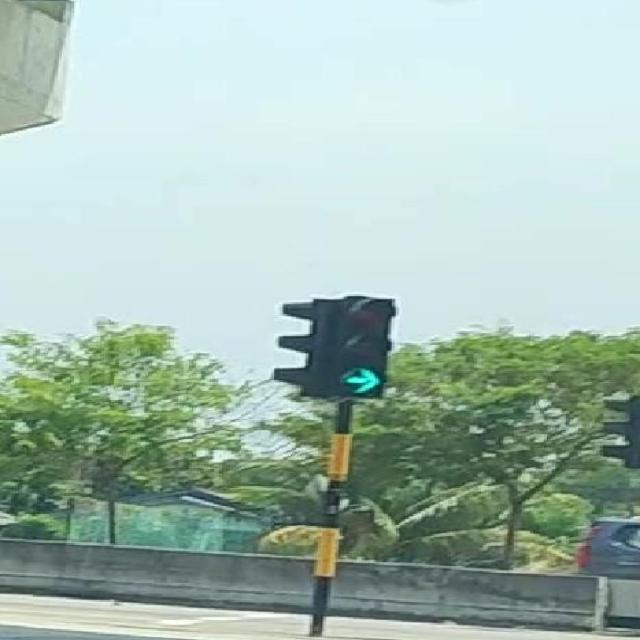car: (575, 516, 640, 583)
traffic light: (272, 295, 397, 400), (272, 299, 336, 398), (337, 296, 396, 399), (600, 395, 640, 469)
